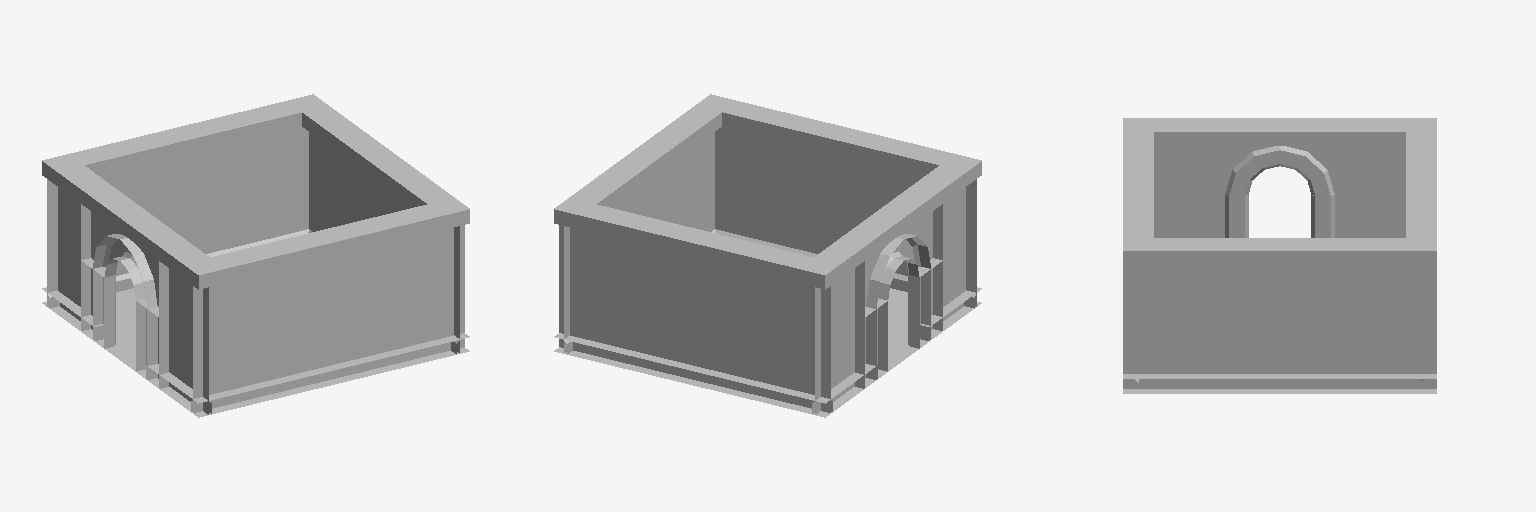
The model's file is openBottom.obj.
3 renders of one model, left to right at view 1: azimuth 30°, elevation 25°; view 2: azimuth 150°, elevation 25°; view 3: azimuth 270°, elevation 25°, orthographic.
Visible parts, largest first — view 1: struct_wall_main_half_2, struct_wall_main_half_5, struct_wall_straight_top_42, struct_wall_straight_top_44, struct_wall_main_half_6, struct_wall_straight_top_41, struct_wall_straight_top_43, struct_wall_big_door_upper_8, struct_wall_big_door_lower_3, struct_wall_main_half_1, struct_floor_main_half_0, struct_wall_base_half_13 (+2 smaller); view 2: struct_wall_main_half_5, struct_wall_main_half_2, struct_wall_straight_top_44, struct_wall_straight_top_42, struct_wall_main_half_6, struct_wall_straight_top_43, struct_wall_straight_top_41, struct_wall_big_door_upper_8, struct_wall_big_door_lower_3, struct_wall_main_half_4, struct_floor_main_half_0, struct_wall_main_half_1 (+3 smaller); view 3: struct_wall_main_half_6, struct_wall_straight_top_41, struct_wall_big_door_upper_8, struct_wall_straight_top_43, struct_wall_main_half_1, struct_wall_main_half_4, struct_wall_big_door_lower_3, struct_wall_straight_top_42, struct_wall_straight_top_44, struct_wall_base_half_14, struct_floor_main_half_0.
Boxes of the visible parts, x1,y1,x2,y2 form: struct_wall_main_half_2: [193, 225, 464, 412]; struct_wall_main_half_5: [47, 127, 308, 306]; struct_wall_straight_top_42: [183, 198, 469, 288]; struct_wall_straight_top_44: [42, 95, 326, 185]; struct_wall_main_half_6: [309, 132, 459, 352]; struct_wall_straight_top_41: [287, 94, 469, 228]; struct_wall_straight_top_43: [42, 154, 225, 289]; struct_wall_big_door_upper_8: [81, 190, 168, 317]; struct_wall_big_door_lower_3: [81, 258, 168, 388]; struct_wall_main_half_1: [169, 268, 208, 414]; struct_floor_main_half_0: [42, 288, 469, 417]; struct_wall_base_half_13: [191, 333, 468, 416]; struct_wall_main_half_5: [559, 225, 830, 412]; struct_wall_main_half_2: [715, 127, 976, 306]; struct_wall_straight_top_44: [554, 198, 840, 288]; struct_wall_straight_top_42: [695, 95, 981, 184]; struct_wall_main_half_6: [564, 132, 714, 352]; struct_wall_straight_top_43: [798, 155, 981, 289]; struct_wall_straight_top_41: [554, 94, 736, 229]; struct_wall_big_door_upper_8: [855, 192, 942, 317]; struct_wall_big_door_lower_3: [855, 261, 942, 388]; struct_wall_main_half_4: [815, 268, 854, 414]; struct_floor_main_half_0: [555, 288, 981, 417]; struct_wall_main_half_1: [943, 187, 965, 320]; struct_wall_main_half_6: [1123, 265, 1436, 388]; struct_wall_straight_top_41: [1123, 238, 1436, 264]; struct_wall_big_door_upper_8: [1201, 118, 1358, 195]; struct_wall_straight_top_43: [1123, 118, 1436, 145]; struct_wall_main_half_1: [1154, 146, 1200, 237]; struct_wall_main_half_4: [1359, 146, 1405, 237]; struct_wall_big_door_lower_3: [1201, 195, 1358, 237]; struct_wall_straight_top_42: [1123, 118, 1153, 262]; struct_wall_straight_top_44: [1406, 118, 1436, 264]; struct_wall_base_half_14: [1123, 374, 1436, 393]; struct_floor_main_half_0: [1123, 389, 1436, 393].
Size of the model in its own units: 4 by 2 by 4.